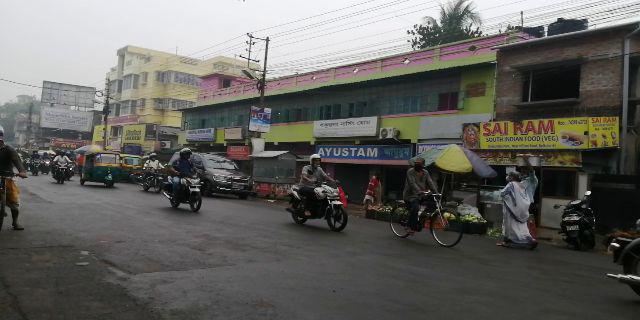Autorickshaw: (79, 150, 122, 194)
Cycle: (385, 159, 464, 247)
Motorbike: (287, 162, 350, 233), (155, 146, 210, 216)
